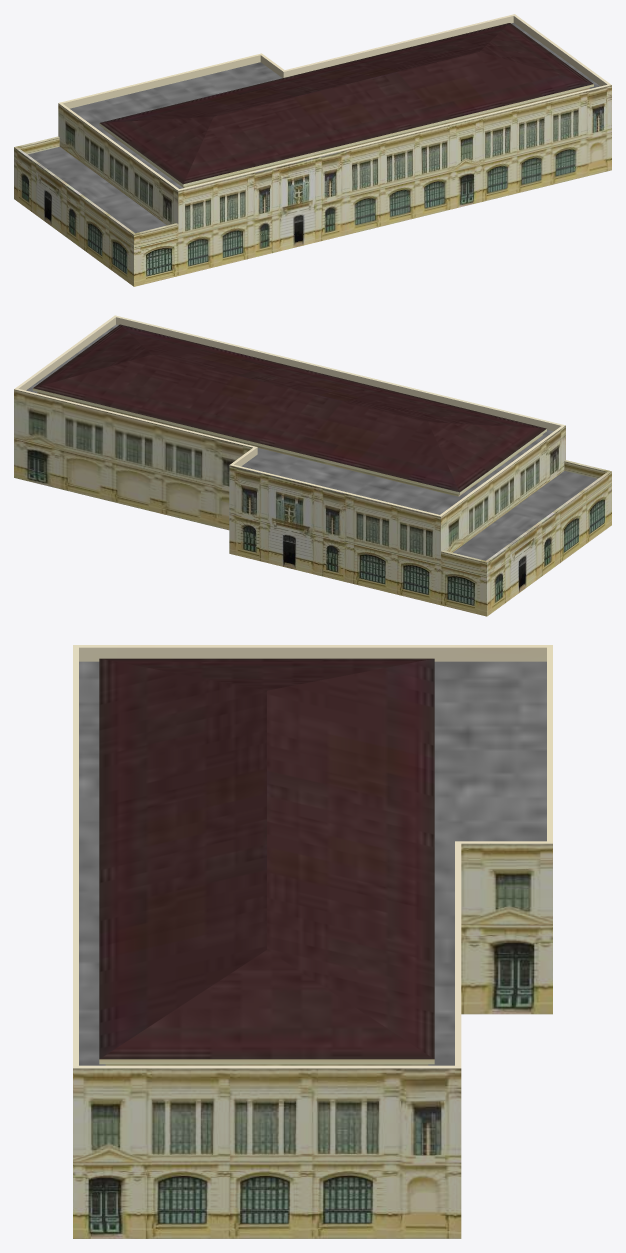
The picture shows the model from 3 angles, top to bottom: view 1: azimuth 30°, elevation 25°; view 2: azimuth 150°, elevation 25°; view 3: azimuth 270°, elevation 25°; orthographic projection. The views are drawn at different scales.
Parts seen in each view (by area): view 1: HN1237_HoiDongNDTpHaNoi; view 2: HN1237_HoiDongNDTpHaNoi; view 3: HN1237_HoiDongNDTpHaNoi.
Boxes of the visible parts, <box> form: HN1237_HoiDongNDTpHaNoi: <box>14,14,611,286</box>; HN1237_HoiDongNDTpHaNoi: <box>14,315,611,616</box>; HN1237_HoiDongNDTpHaNoi: <box>73,645,552,1238</box>.
Bounding box in the file's own units: 54 × 11.17 × 23.5.
1 material, 1 textured.
